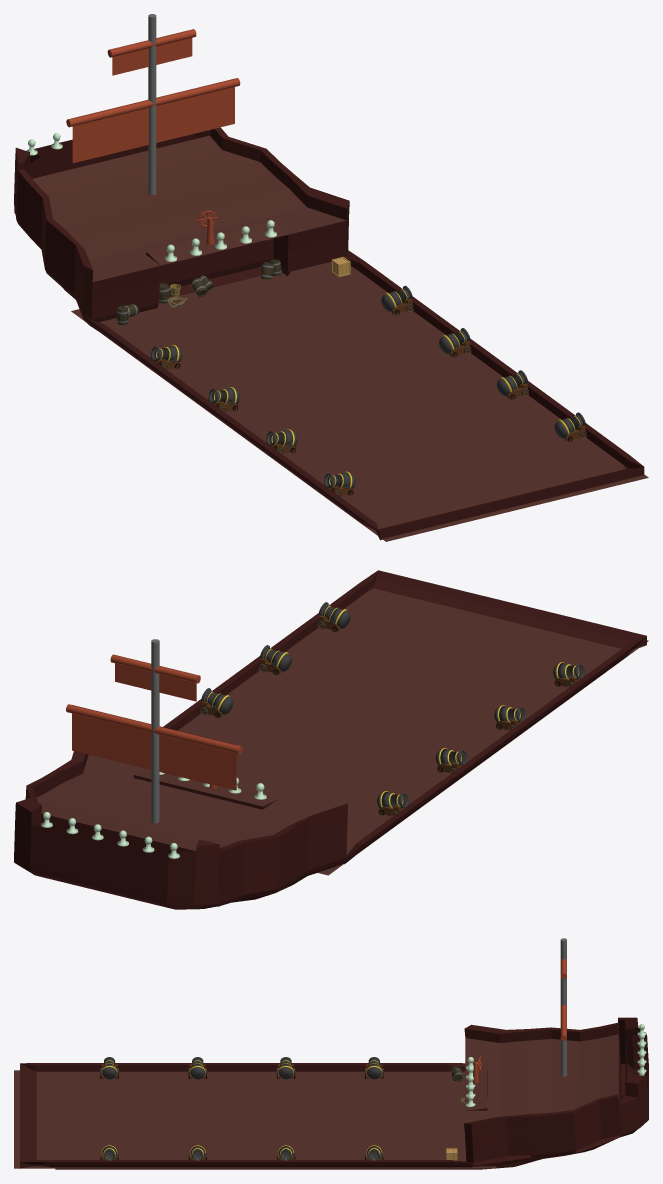
File: pirates_environment_denizsiz (1).fbx
3 renders of one model, top to bottom at view 1: azimuth 30°, elevation 25°; view 2: azimuth 150°, elevation 25°; view 3: azimuth 270°, elevation 25°, orthographic. The views are drawn at different scales.
Parts seen in each view (by area): view 1: Plane.004; view 2: Plane.004; view 3: Plane.004.
Part boxes in pixels (<box>): Plane.004: <box>14,14,648,541</box>; Plane.004: <box>14,570,648,909</box>; Plane.004: <box>14,938,648,1169</box>.
Size of the model in its own units: 1598 by 1385 by 4317.
